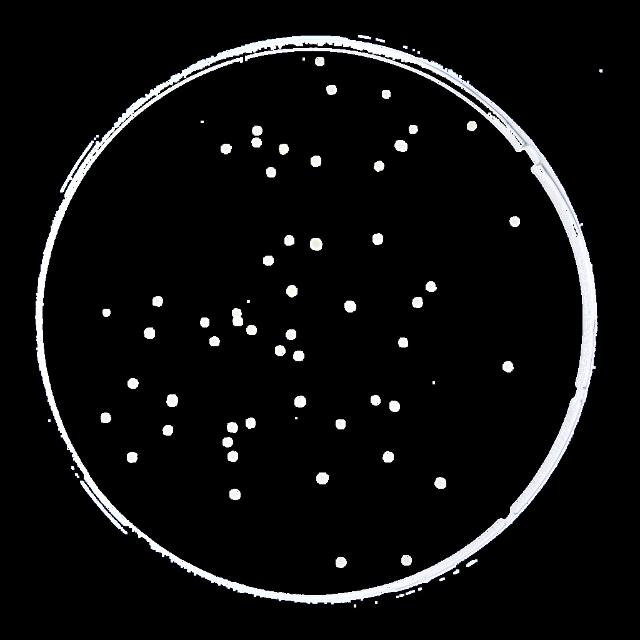colony: (394, 140, 408, 152), (310, 156, 322, 167), (412, 296, 423, 308), (317, 472, 329, 483), (374, 160, 384, 172), (220, 144, 232, 154), (310, 239, 322, 249), (287, 285, 297, 297), (344, 302, 356, 312), (294, 397, 306, 407), (373, 233, 383, 244), (127, 452, 137, 463), (230, 488, 240, 499), (389, 401, 399, 412), (327, 85, 337, 95), (467, 122, 477, 132), (279, 144, 289, 154), (252, 126, 262, 136), (251, 138, 261, 148), (266, 167, 276, 177), (510, 217, 520, 227), (426, 282, 436, 292), (284, 235, 294, 245), (263, 256, 273, 266), (286, 330, 296, 340), (153, 296, 163, 306), (145, 328, 155, 338), (167, 396, 177, 406), (128, 379, 138, 389), (503, 362, 513, 372), (398, 338, 408, 348), (228, 451, 238, 461), (336, 558, 346, 568), (294, 352, 304, 361), (336, 419, 346, 428), (383, 452, 392, 462), (408, 125, 418, 133), (234, 316, 242, 326), (201, 318, 209, 328), (210, 337, 218, 347), (246, 326, 256, 334), (276, 346, 284, 356), (246, 418, 254, 428), (436, 478, 444, 488), (402, 556, 412, 564), (228, 423, 236, 432), (224, 438, 232, 447), (102, 413, 110, 422), (316, 58, 324, 66), (382, 90, 390, 98), (232, 308, 240, 316), (164, 426, 172, 434), (372, 395, 378, 405), (102, 310, 110, 316)
